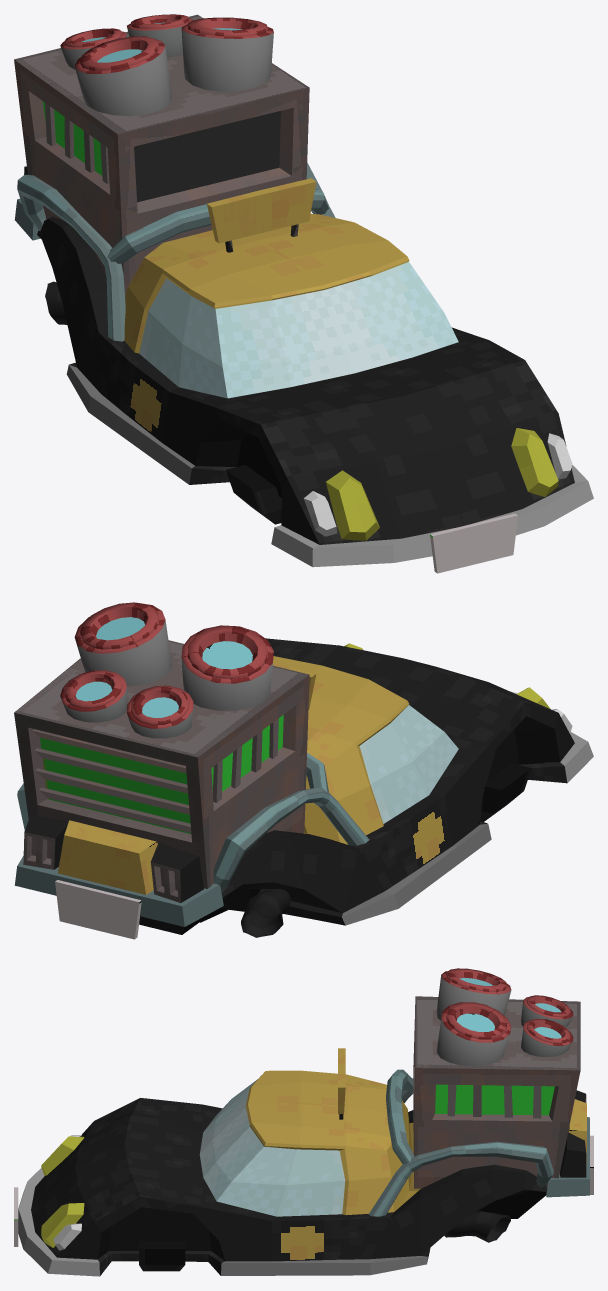
File: Carroceria.glb
The picture shows the model from 3 angles, top to bottom: view 1: azimuth 30°, elevation 25°; view 2: azimuth 150°, elevation 25°; view 3: azimuth 270°, elevation 25°; orthographic projection. The views are drawn at different scales.
Visible parts, largest first — view 1: Carroceria; view 2: Carroceria; view 3: Carroceria.
Boxes of the visible parts, box(x1,y1,x2,y2) form: Carroceria: box(14, 14, 593, 573); Carroceria: box(14, 602, 593, 939); Carroceria: box(14, 968, 593, 1276).
Size of the model in its own units: 1.32 by 1.28 by 2.79.
Materials: 1 (1 with a texture image).
